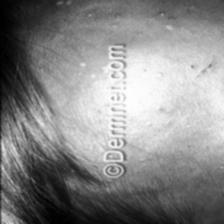Toxin: (160, 9, 184, 33), (54, 0, 72, 7)
